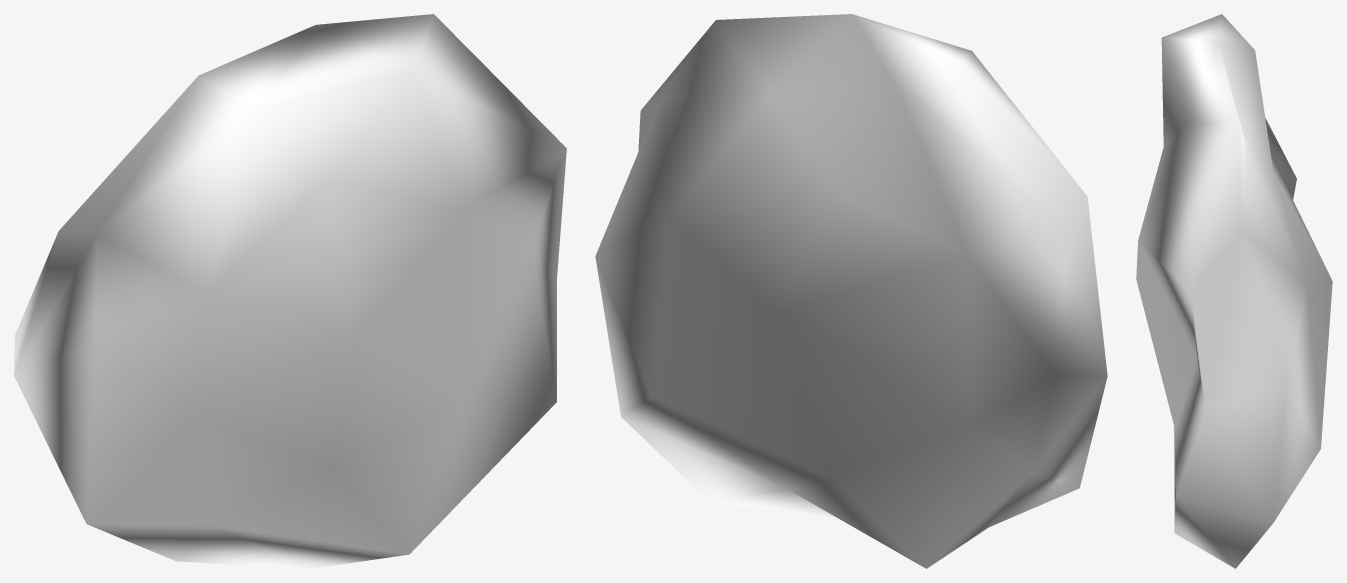
Rendered from SM_Calling_Stone.glb.
3 renders of one model, left to right at view 1: azimuth 30°, elevation 25°; view 2: azimuth 150°, elevation 25°; view 3: azimuth 270°, elevation 25°, orthographic. The views are drawn at different scales.
Parts seen in each view (by area): view 1: asset_calling_stone; view 2: asset_calling_stone; view 3: asset_calling_stone.
Boxes of the visible parts, left/top/right/bottom form: asset_calling_stone: left=14, top=14, right=566, bottom=568; asset_calling_stone: left=595, top=14, right=1107, bottom=568; asset_calling_stone: left=1136, top=14, right=1332, bottom=568.
Size of the model in its own units: 0.8917 by 0.8777 by 0.3337.
Materials: 1 (1 with a texture image).
